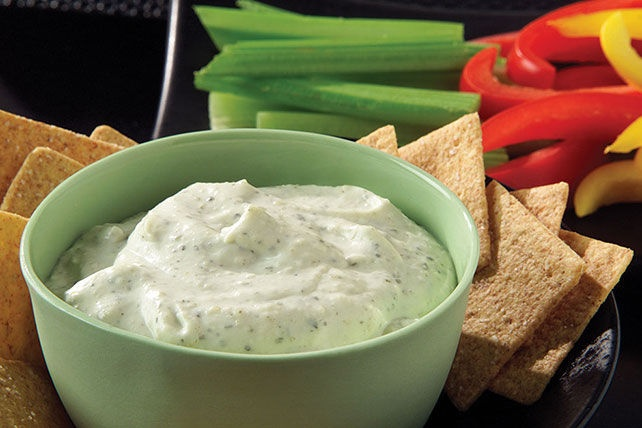background: (193, 0, 642, 275), (46, 118, 458, 236), (0, 72, 138, 286)
